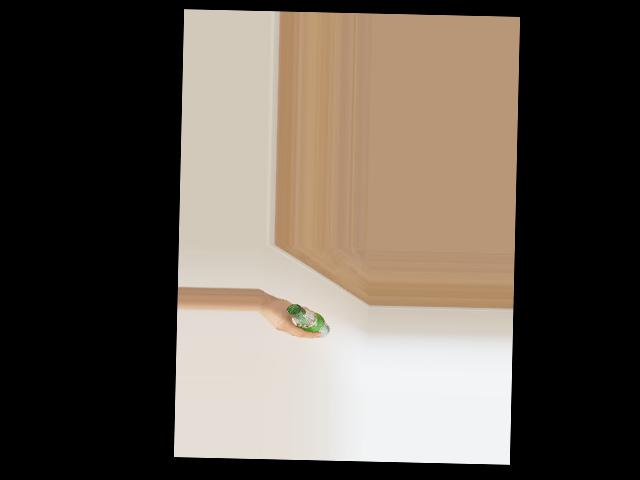beer: (285, 303, 330, 337)
